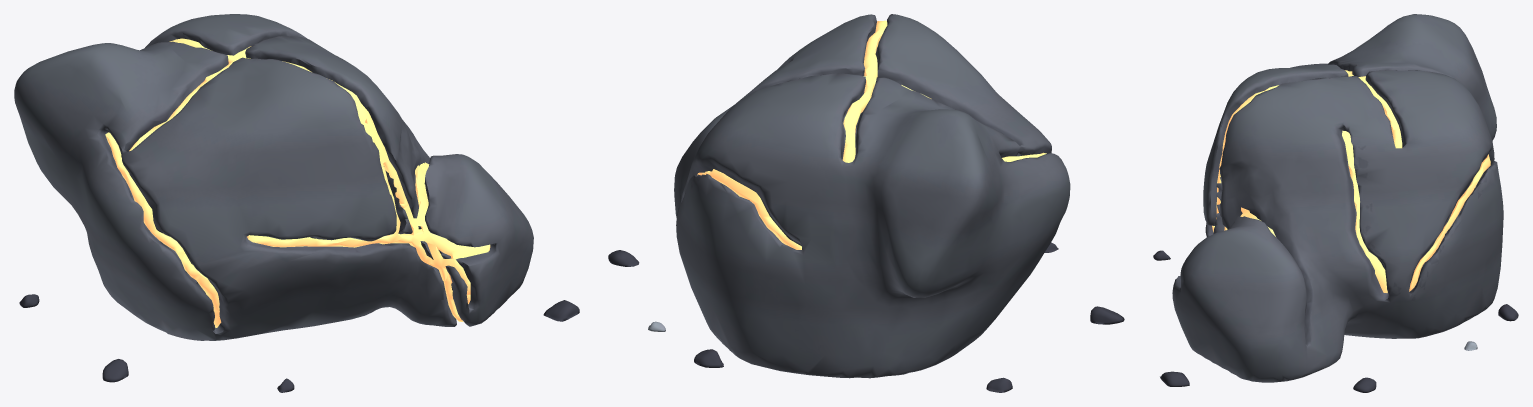
The model's file is basalt-lava-rock.glb.
3 views of the same model, side by side, from view 1: azimuth 30°, elevation 25°; view 2: azimuth 150°, elevation 25°; view 3: azimuth 270°, elevation 25° (orthographic). The views are drawn at different scales.
Parts seen in each view (by area): view 1: lava-rock_body, lava-rock_crack_glow; view 2: lava-rock_body, lava-rock_crack_glow; view 3: lava-rock_body, lava-rock_crack_glow.
Part boxes in pixels (x1=…): lava-rock_body: x1=14, y1=14, x2=579, y2=392; lava-rock_crack_glow: x1=105, y1=38, x2=490, y2=327; lava-rock_body: x1=608, y1=14, x2=1124, y2=392; lava-rock_crack_glow: x1=697, y1=20, x2=1046, y2=249; lava-rock_body: x1=1153, y1=14, x2=1518, y2=392; lava-rock_crack_glow: x1=1212, y1=70, x2=1490, y2=292.
Size of the model in its own units: 1.82 by 0.9764 by 1.47.
2 materials, 1 textured.
